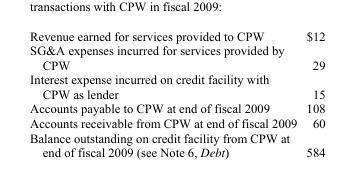table: (29, 28, 324, 159)
table column: (29, 28, 300, 159), (300, 28, 324, 159)
table row: (29, 42, 324, 71), (29, 71, 324, 100), (29, 130, 324, 159), (29, 100, 324, 115), (29, 115, 324, 130), (29, 28, 324, 42)
